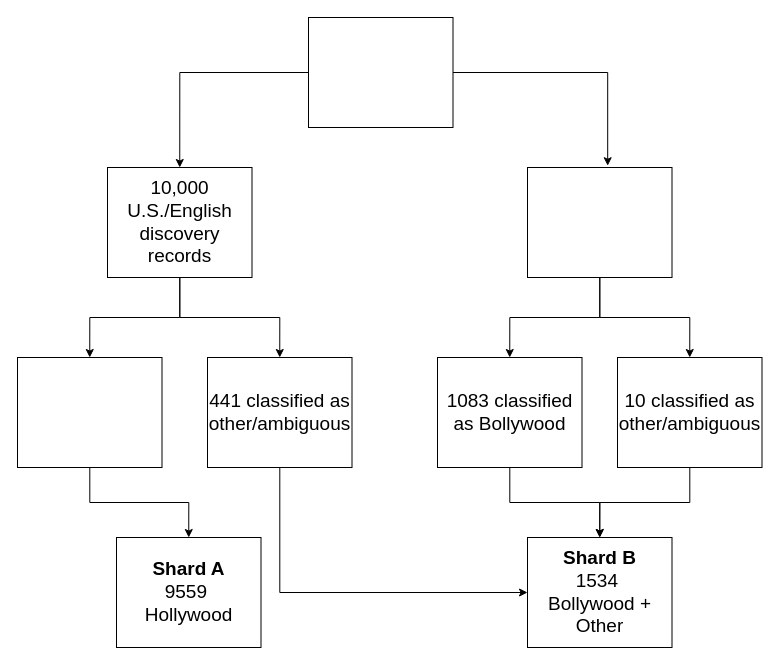
The diagram is 780 pixels wide and 665 high, and some of its shapes have lost their labels. The shapes that lost their labels are listed below. From the top down, each one's box as (x1, y1, x2, y2) in pixels, then its label:
(308, 16, 453, 128): 11,093 canonical records
(526, 166, 672, 278): 1,093 India/Hindi discovery records
(16, 356, 162, 468): 9559 classified as Hollywood
